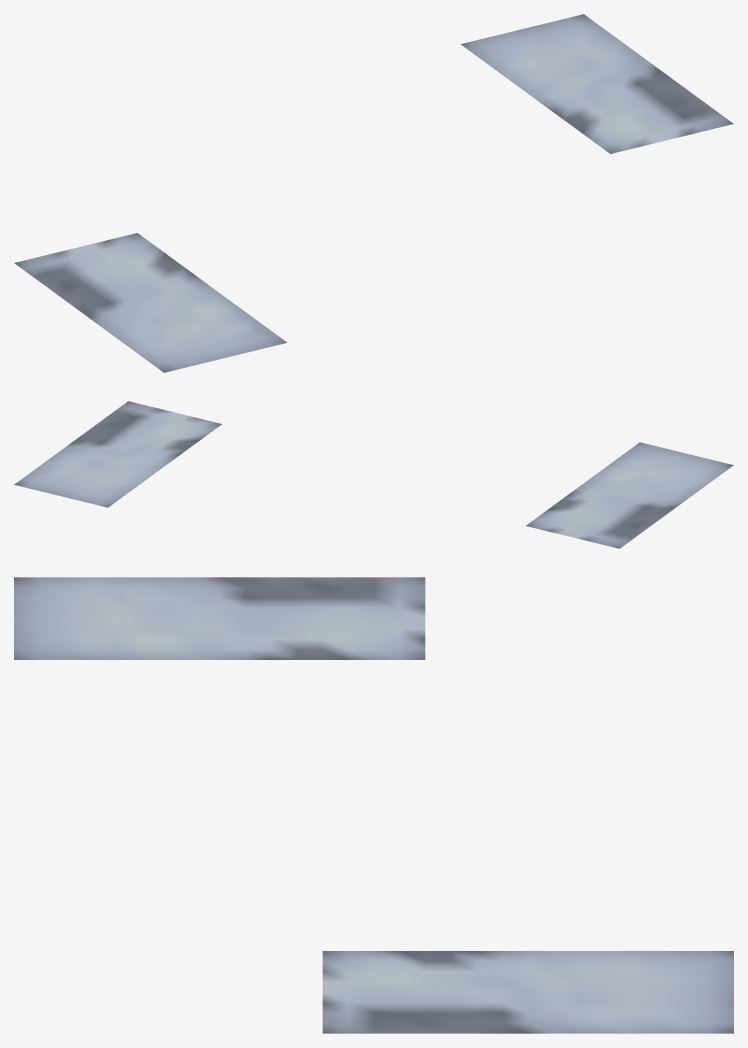
Rendered from pithead_floor.glb.
3 views of the same model, one above another, from view 1: azimuth 30°, elevation 25°; view 2: azimuth 150°, elevation 25°; view 3: azimuth 270°, elevation 25° (orthographic). The views are drawn at different scales.
Visible parts, largest first — view 1: floor; view 2: floor; view 3: floor.
Boxes of the visible parts, x1,y1,x2,y2 form: floor: (14, 14, 733, 372); floor: (14, 401, 733, 548); floor: (14, 577, 733, 1033).
Size of the model in its own units: 42 by 0 by 28.
